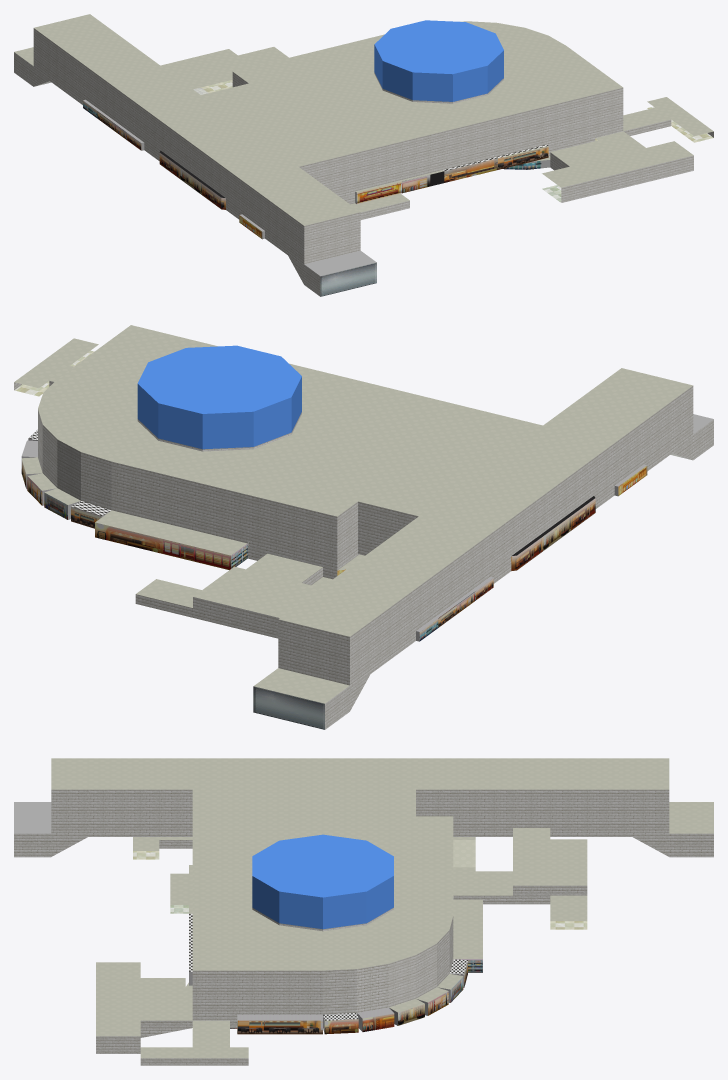
The picture shows the model from 3 angles, top to bottom: view 1: azimuth 30°, elevation 25°; view 2: azimuth 150°, elevation 25°; view 3: azimuth 270°, elevation 25°; orthographic projection. The views are drawn at different scales.
Parts seen in each view (by area): view 1: Escalator_Action-SKP--Ceiling, Escalator_Action-SKP--WhiteBrick, Escalator_Action-SKP--Glass, Escalator_Action-SKP--ShopWindows, Escalator_Action-SKP--WindowGlass, Escalator_Action-SKP--Default_Material, Escalator_Action-SKP--Floor2; view 2: Escalator_Action-SKP--Ceiling, Escalator_Action-SKP--WhiteBrick, Escalator_Action-SKP--Glass, Escalator_Action-SKP--ShopWindows, Escalator_Action-SKP--WindowGlass, Escalator_Action-SKP--DoubleSidedWall; view 3: Escalator_Action-SKP--Ceiling, Escalator_Action-SKP--WhiteBrick, Escalator_Action-SKP--Glass, Escalator_Action-SKP--ShopWindows, Escalator_Action-SKP--DoubleSidedWall, Escalator_Action-SKP--Default_Material, Escalator_Action-SKP--FinishLine, Escalator_Action-SKP--Floor2.
Part boxes in pixels (bbox=[...]): Escalator_Action-SKP--Ceiling: bbox=[14, 14, 713, 225]; Escalator_Action-SKP--WhiteBrick: bbox=[14, 28, 713, 296]; Escalator_Action-SKP--Glass: bbox=[374, 20, 503, 101]; Escalator_Action-SKP--ShopWindows: bbox=[83, 100, 548, 238]; Escalator_Action-SKP--WindowGlass: bbox=[320, 262, 376, 296]; Escalator_Action-SKP--Default_Material: bbox=[304, 250, 376, 276]; Escalator_Action-SKP--Floor2: bbox=[200, 80, 713, 142]; Escalator_Action-SKP--Ceiling: bbox=[14, 325, 692, 703]; Escalator_Action-SKP--WhiteBrick: bbox=[14, 381, 713, 729]; Escalator_Action-SKP--Glass: bbox=[137, 345, 301, 449]; Escalator_Action-SKP--ShopWindows: bbox=[21, 459, 647, 641]; Escalator_Action-SKP--WindowGlass: bbox=[253, 686, 324, 729]; Escalator_Action-SKP--DoubleSidedWall: bbox=[21, 438, 646, 641]; Escalator_Action-SKP--Ceiling: bbox=[51, 758, 713, 1058]; Escalator_Action-SKP--WhiteBrick: bbox=[14, 789, 713, 1065]; Escalator_Action-SKP--Glass: bbox=[252, 834, 393, 929]; Escalator_Action-SKP--ShopWindows: bbox=[230, 959, 482, 1034]; Escalator_Action-SKP--DoubleSidedWall: bbox=[189, 972, 464, 1033]; Escalator_Action-SKP--Default_Material: bbox=[14, 802, 51, 833]; Escalator_Action-SKP--FinishLine: bbox=[189, 913, 467, 1020]; Escalator_Action-SKP--Floor2: bbox=[133, 851, 587, 929].
Bounding box in the file's own units: 80000 × 15100 × 94000.
Materials: 39 (38 with a texture image).
